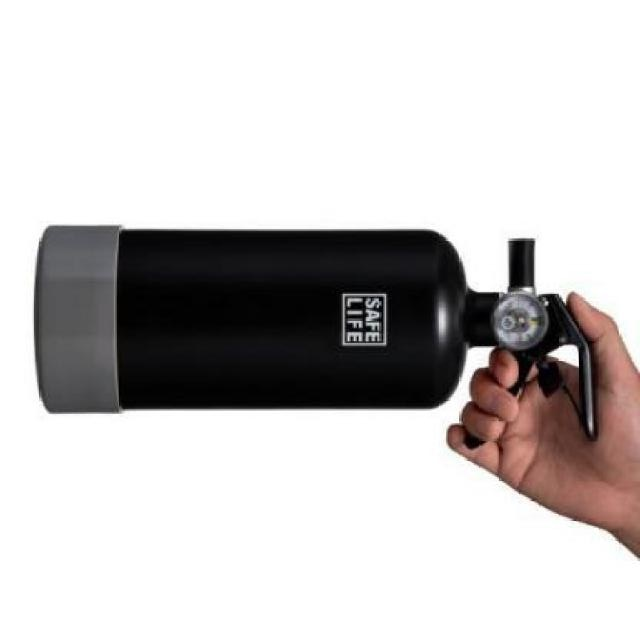fire extinguisher: (33, 225, 598, 451)
